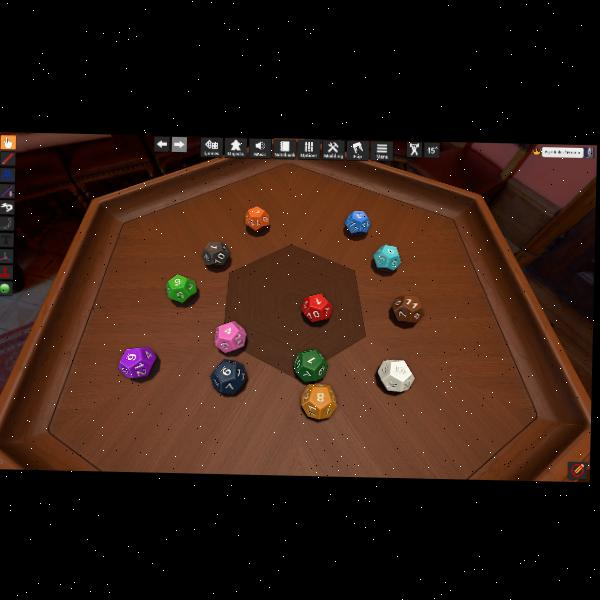d12: (300, 381, 337, 419), (210, 359, 248, 396), (119, 345, 157, 379), (379, 357, 415, 391), (294, 348, 326, 380), (215, 321, 246, 352), (167, 273, 199, 303), (391, 294, 422, 323), (304, 292, 333, 322), (373, 244, 400, 272), (201, 241, 228, 267), (344, 209, 371, 235), (244, 206, 269, 232)
